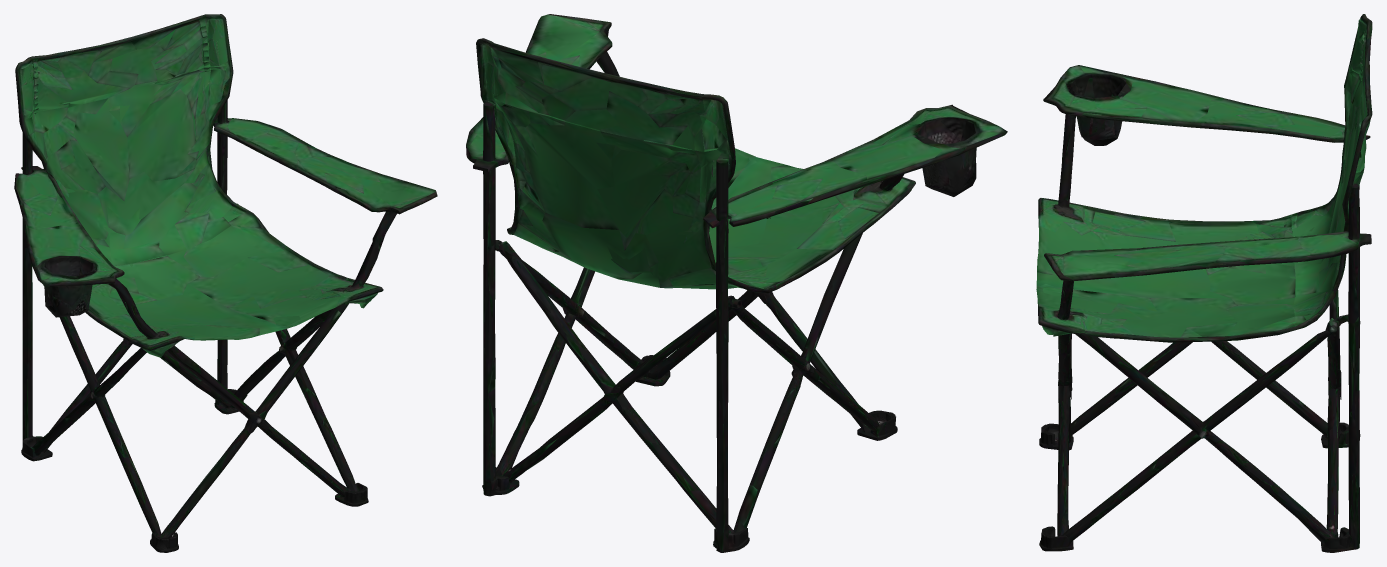
File: folding-chair.glb
3 renders of one model, left to right at view 1: azimuth 30°, elevation 25°; view 2: azimuth 150°, elevation 25°; view 3: azimuth 270°, elevation 25°, orthographic. The views are drawn at different scales.
Size of the model in its own units: 1.89 by 1.77 by 1.27.
Materials: 1 (1 with a texture image).
